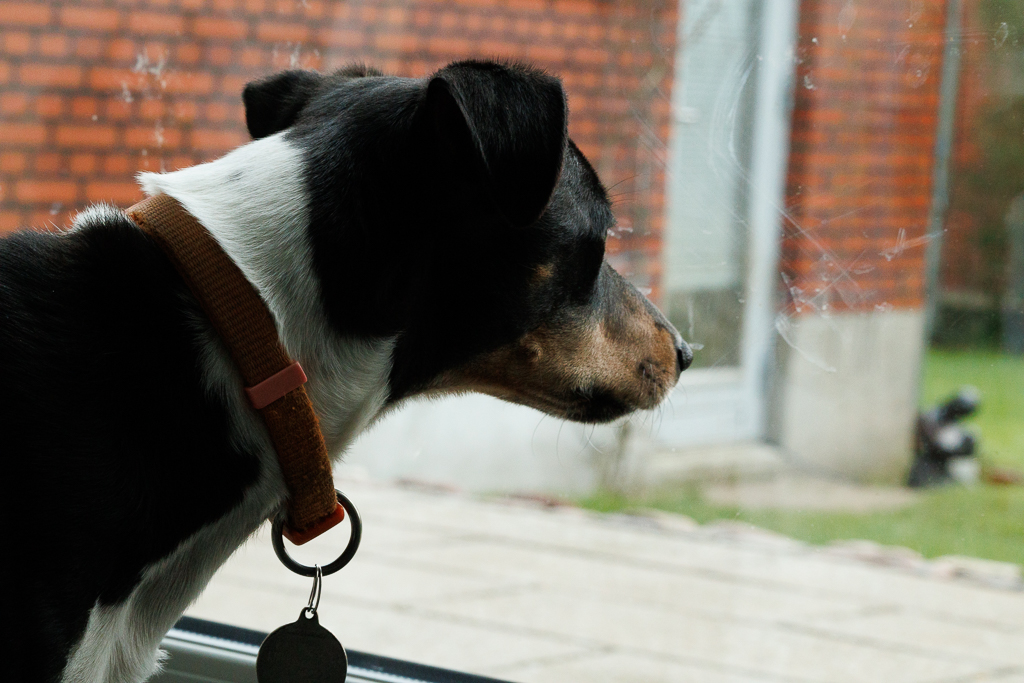Dog: (0, 49, 709, 683)
Humanoid: (895, 371, 989, 495)
